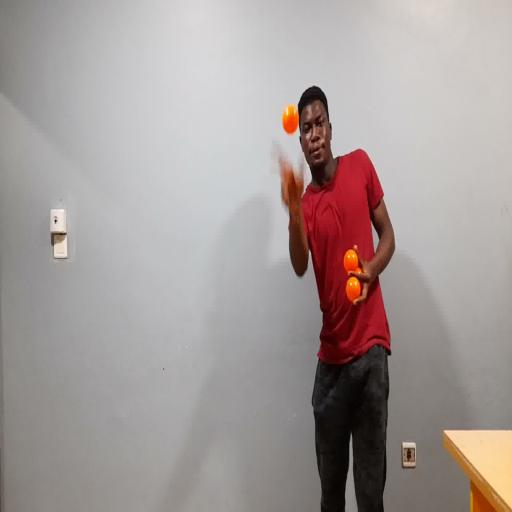plastic-ball: (280, 101, 301, 140)
